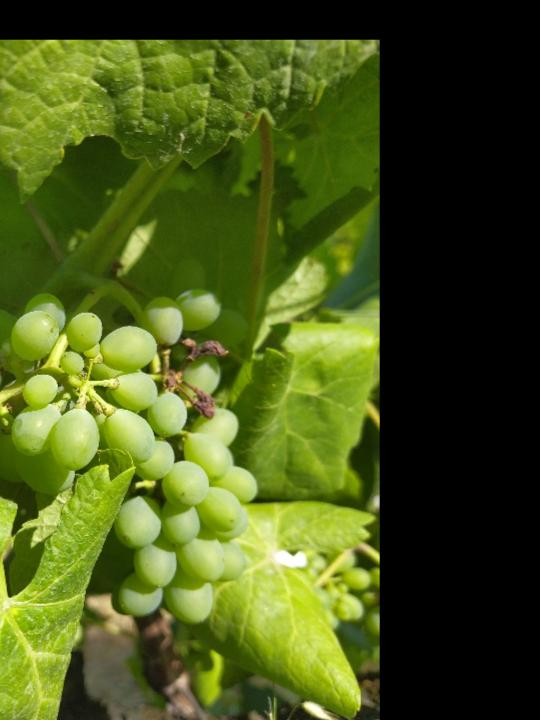grape: (0, 257, 265, 630)
